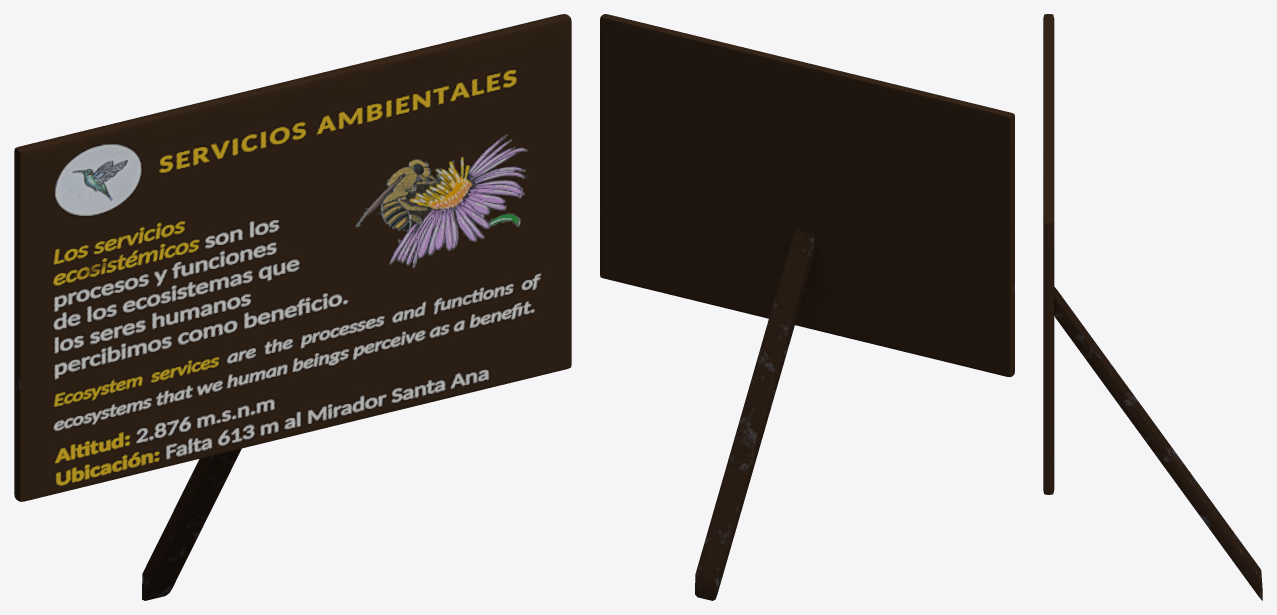
Rendered from letrero-servicios-ambientales.glb.
3 views of the same model, side by side, from view 1: azimuth 30°, elevation 25°; view 2: azimuth 150°, elevation 25°; view 3: azimuth 270°, elevation 25° (orthographic). The views are drawn at different scales.
Parts seen in each view (by area): view 1: Mesh_0; view 2: Mesh_0; view 3: Mesh_0.
Boxes of the visible parts, box(x1,y1,x2,y2) form: Mesh_0: box(14, 14, 571, 600); Mesh_0: box(600, 14, 1014, 600); Mesh_0: box(1043, 14, 1262, 600).
Bounding box in the file's own units: 8.9 × 9.49 × 3.94.
2 materials, 2 textured.
